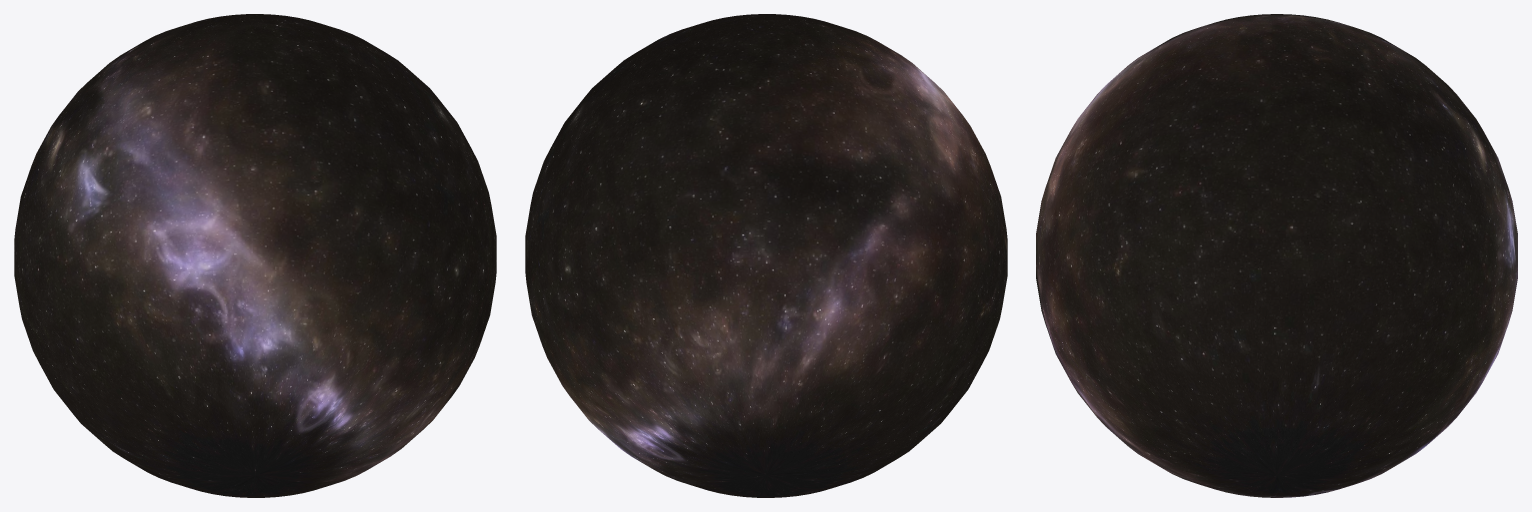
File: sky.glb
The picture shows the model from 3 angles, left to right: view 1: azimuth 30°, elevation 25°; view 2: azimuth 150°, elevation 25°; view 3: azimuth 270°, elevation 25°; orthographic projection.
Parts seen in each view (by area): view 1: PanoSphere; view 2: PanoSphere; view 3: PanoSphere.
Part boxes in pixels (x1=…): PanoSphere: x1=14, y1=14, x2=496, y2=497; PanoSphere: x1=525, y1=14, x2=1007, y2=497; PanoSphere: x1=1036, y1=14, x2=1517, y2=497.
Bounding box in the file's own units: 9.97 × 10 × 9.95.
Materials: 1 (1 with a texture image).
